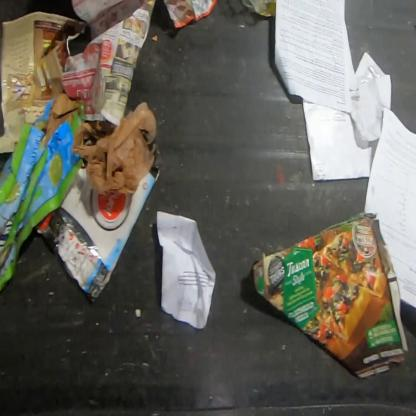cardboard: (250, 210, 410, 382), (0, 92, 103, 296), (34, 166, 158, 305)
soft_plastic: (73, 100, 159, 200)
